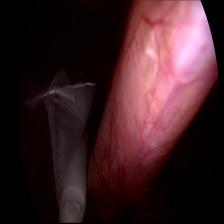Specimen Bag: (23, 65, 101, 224)
